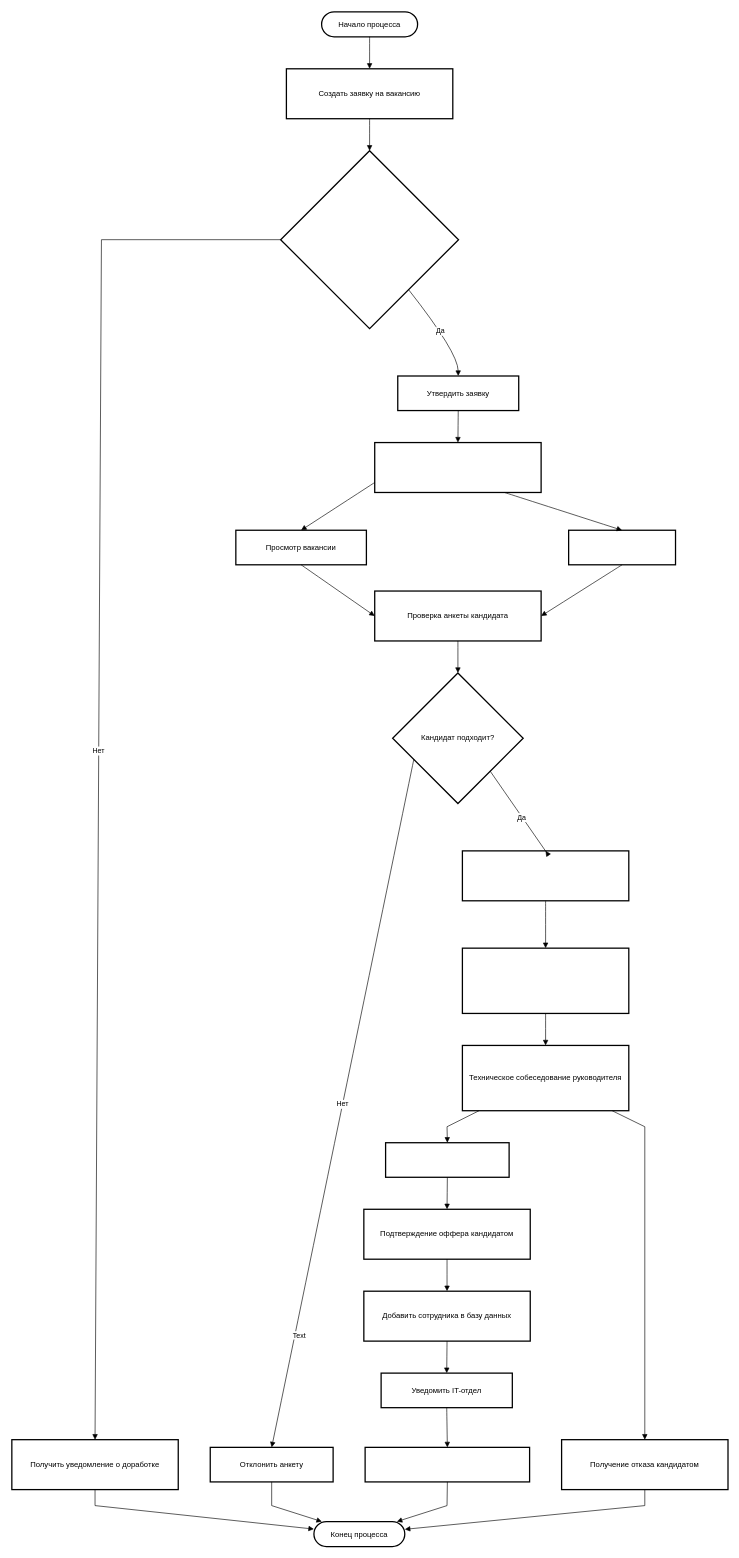
Some shapes in this 739 by 1558 pixel diagram are drawn without their labels. Here are the shapes that lost their labels. From the top down, the box of each, then its label:
(280, 150, 459, 329): Заявка соответствует требованиям?
(374, 442, 541, 493): Публикация вакансии на сайте
(568, 529, 676, 565): Подача заявок
(461, 850, 629, 901): Пригласить на собеседование
(461, 947, 629, 1014): Первичное собеседование HR-менеджера
(385, 1142, 509, 1178): Отправка оффера
(364, 1446, 530, 1482): Настройка рабочего места
